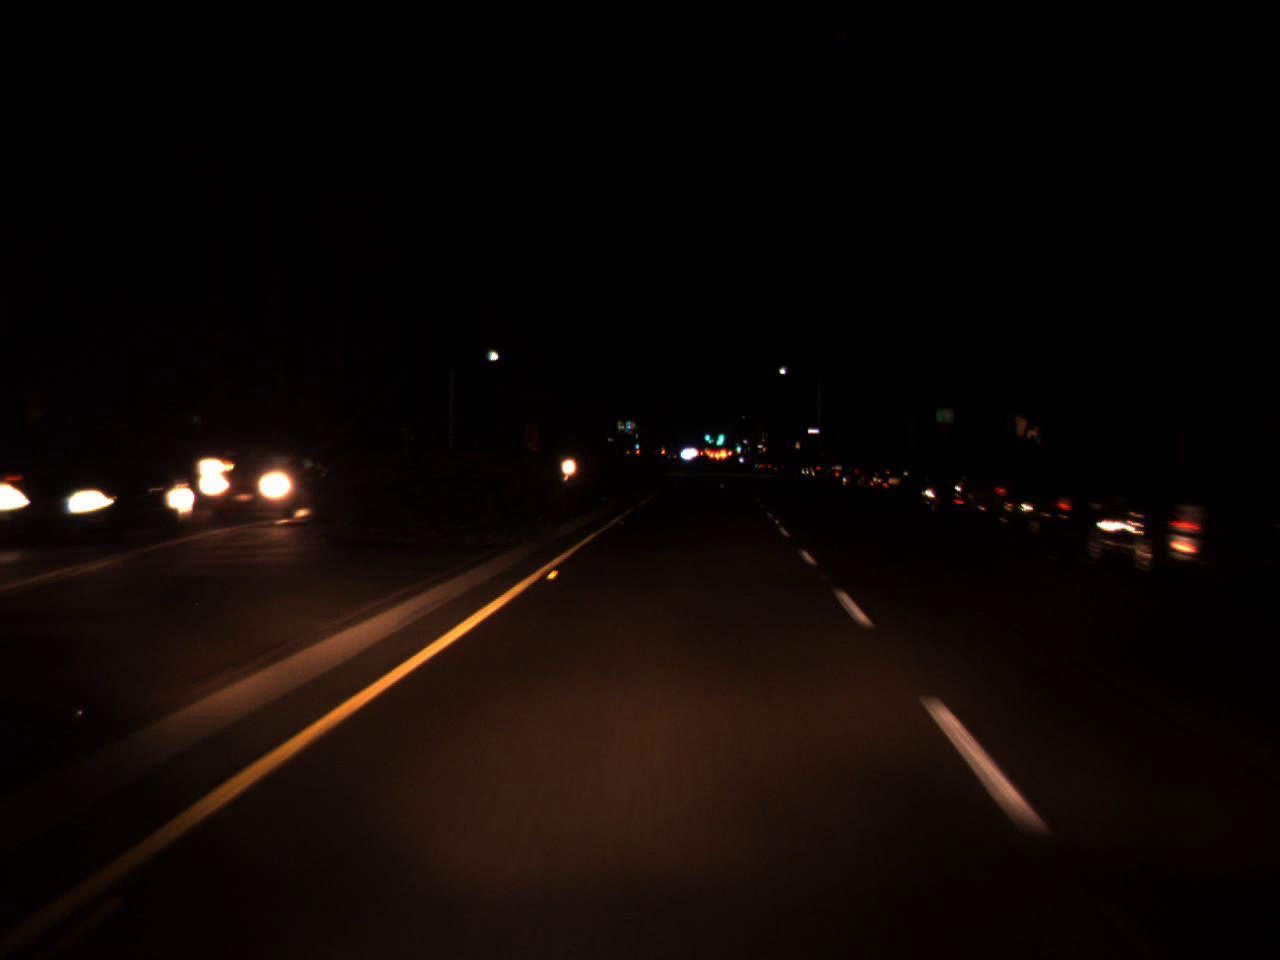go: (715, 424, 725, 445), (633, 436, 640, 451), (703, 427, 710, 442), (735, 440, 742, 452)
